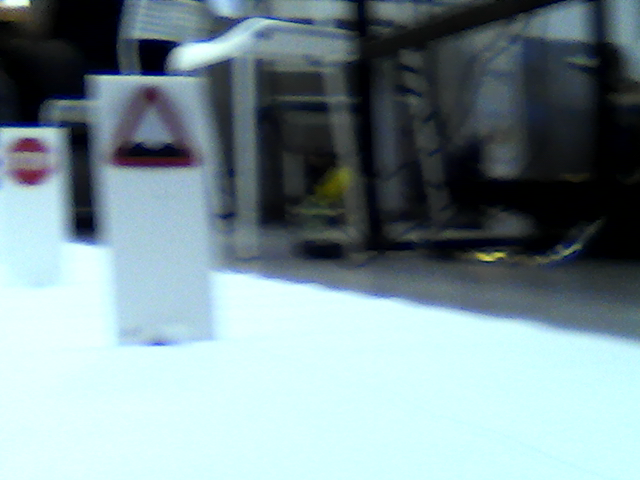Nerov: (108, 83, 200, 170)
Stop: (6, 135, 52, 186)
